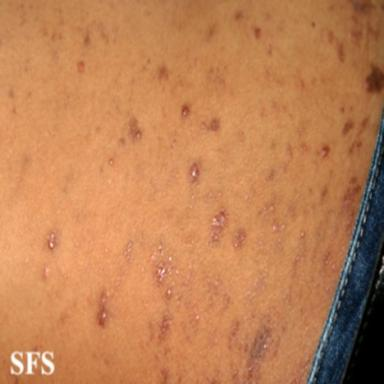lichen: (341, 176, 364, 234), (247, 325, 272, 378), (210, 210, 227, 242), (97, 292, 107, 326), (158, 315, 172, 339), (129, 118, 142, 140), (157, 263, 167, 283), (234, 230, 245, 248), (47, 231, 57, 250), (124, 240, 133, 260), (190, 163, 199, 182), (342, 120, 354, 134), (157, 65, 168, 79), (209, 119, 220, 131), (42, 266, 51, 279), (234, 10, 244, 21), (181, 105, 190, 117), (321, 146, 330, 157), (77, 61, 85, 72), (200, 122, 208, 130), (119, 137, 126, 146), (194, 314, 200, 321), (109, 158, 114, 166), (166, 289, 172, 295)
